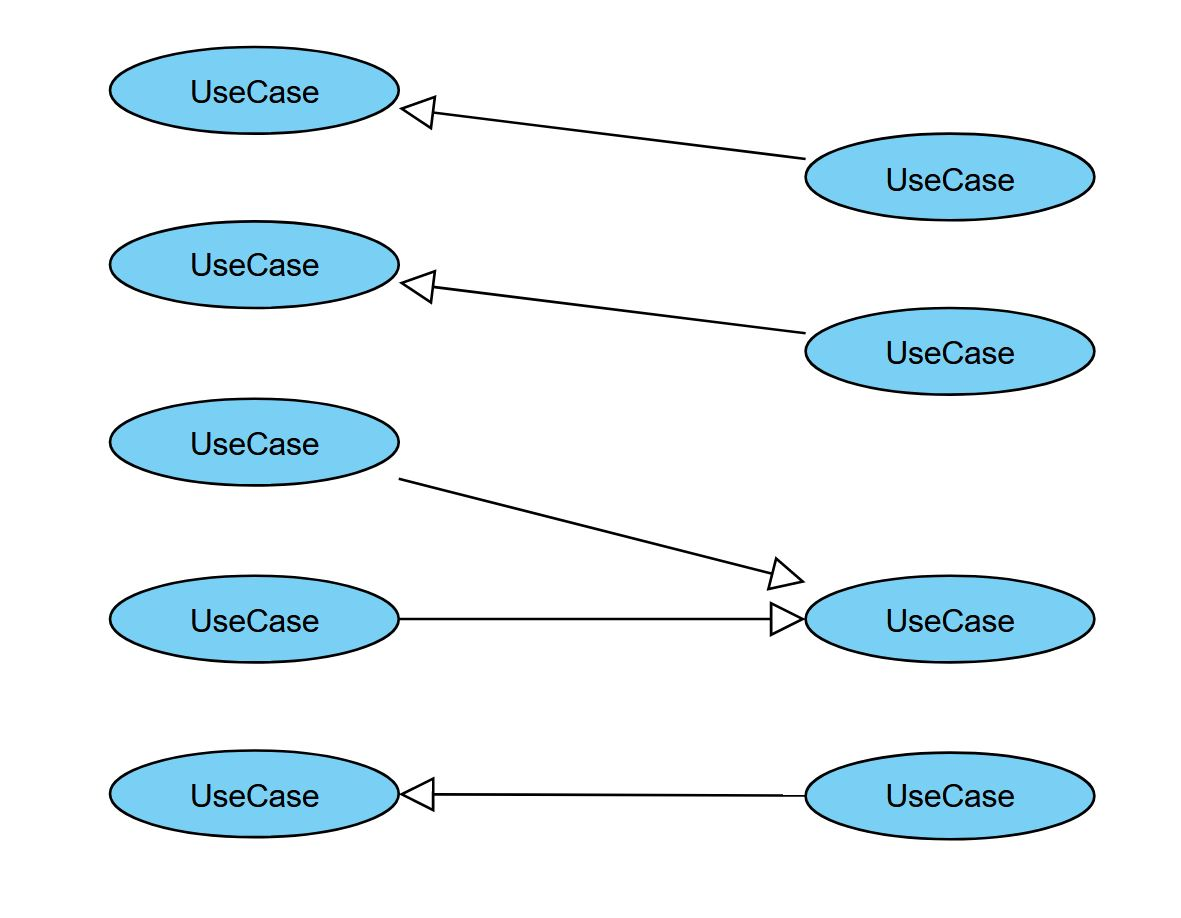generalization: (398, 477, 805, 590), (399, 90, 807, 165), (399, 268, 806, 336), (397, 602, 805, 639), (399, 777, 807, 814)
text: (187, 241, 324, 288), (864, 160, 1028, 199), (882, 597, 1018, 643), (185, 605, 325, 644), (182, 73, 325, 109), (877, 332, 1018, 368), (881, 779, 1022, 813), (185, 781, 323, 815), (183, 424, 321, 458)
use_case: (105, 42, 400, 136), (107, 395, 400, 488), (106, 219, 400, 311), (108, 748, 399, 838), (802, 752, 1099, 840), (806, 131, 1094, 221), (110, 575, 398, 665), (804, 306, 1096, 394), (807, 576, 1095, 664)
